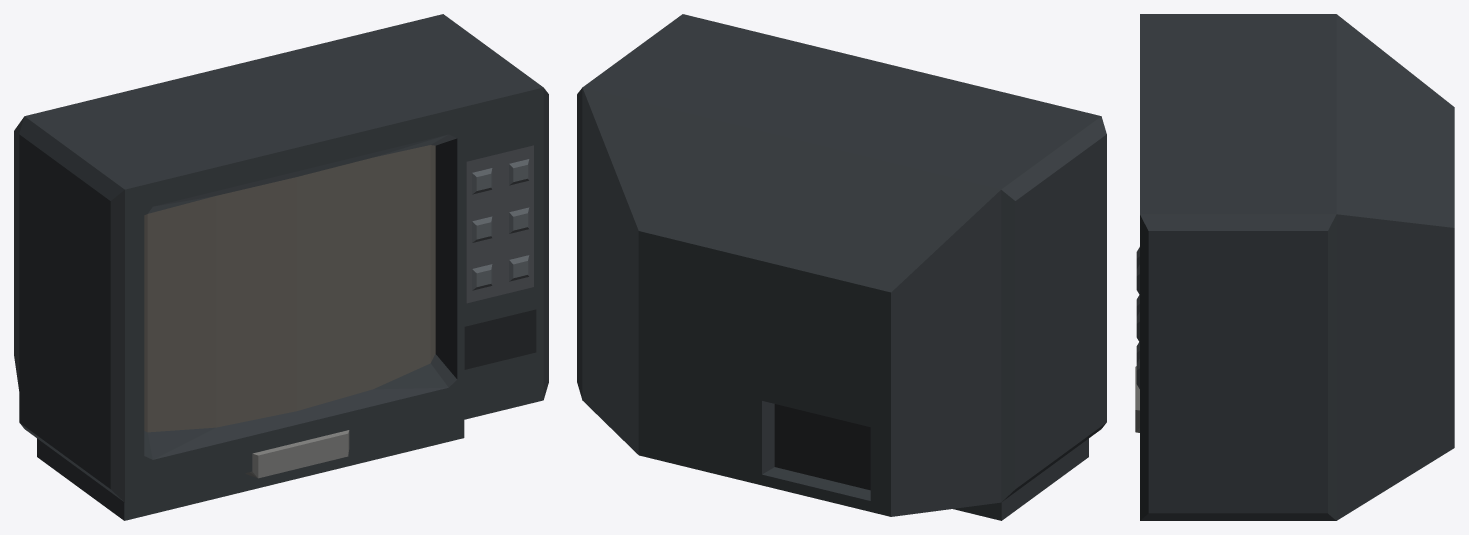
The model's file is SM_Prop_Electronics_Tv_03.glb.
3 views of the same model, side by side, from view 1: azimuth 30°, elevation 25°; view 2: azimuth 150°, elevation 25°; view 3: azimuth 270°, elevation 25° (orthographic). The views are drawn at different scales.
Parts seen in each view (by area): view 1: SM_Prop_Electronics_Tv_03; view 2: SM_Prop_Electronics_Tv_03; view 3: SM_Prop_Electronics_Tv_03.
Part boxes in pixels (x1,y1,x2,y2): SM_Prop_Electronics_Tv_03: [14, 14, 548, 520]; SM_Prop_Electronics_Tv_03: [577, 14, 1106, 520]; SM_Prop_Electronics_Tv_03: [1135, 14, 1454, 520].
Bounding box in the file's own units: 0.7925 × 0.5832 × 0.5104.
1 material, 1 textured.
